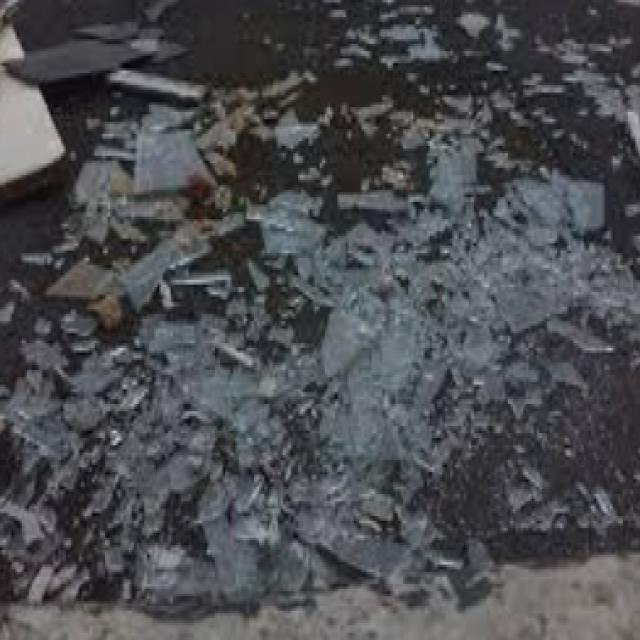PecahanKaca: (0, 0, 638, 615)
